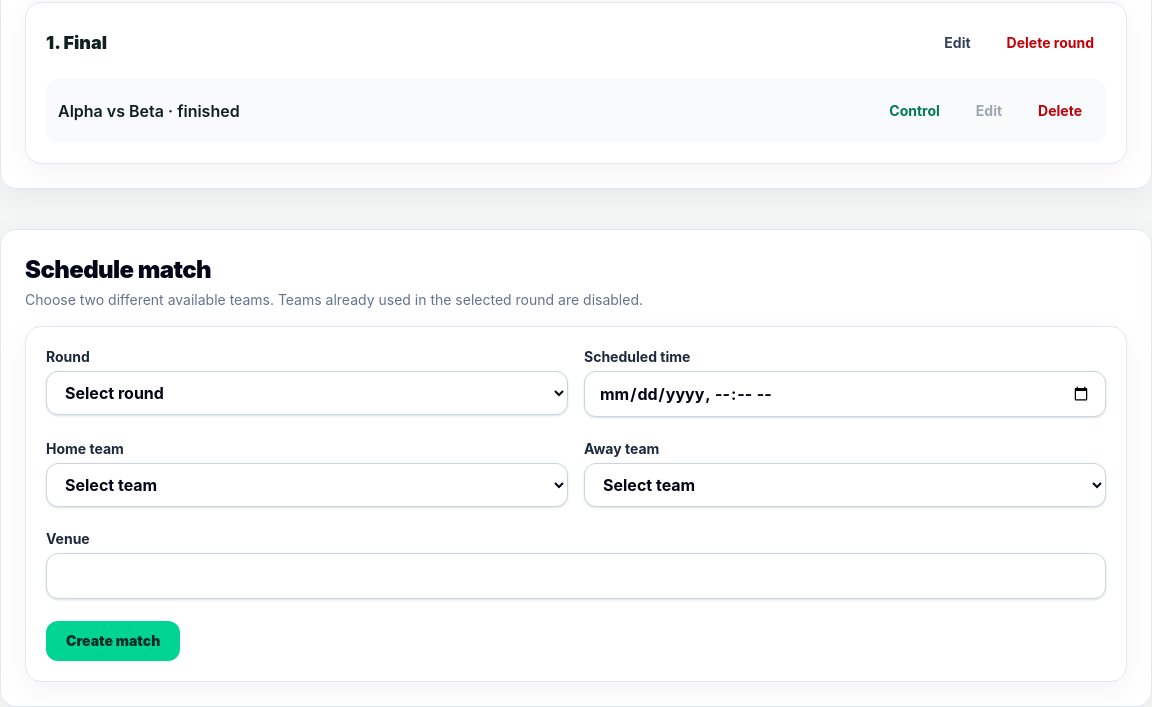
Test: EventWorkspace › shows team names and disables teams already used in the selected round
The width and height of the screenshot is (1152, 707).
(page scrolled)
Check: the text "Alpha vs Beta · finished" is shown, box [58,101,240,121]
Select "Final" in the dropdown labelled "Round" at (307, 393), box [46,371,568,415]
(page scrolled)
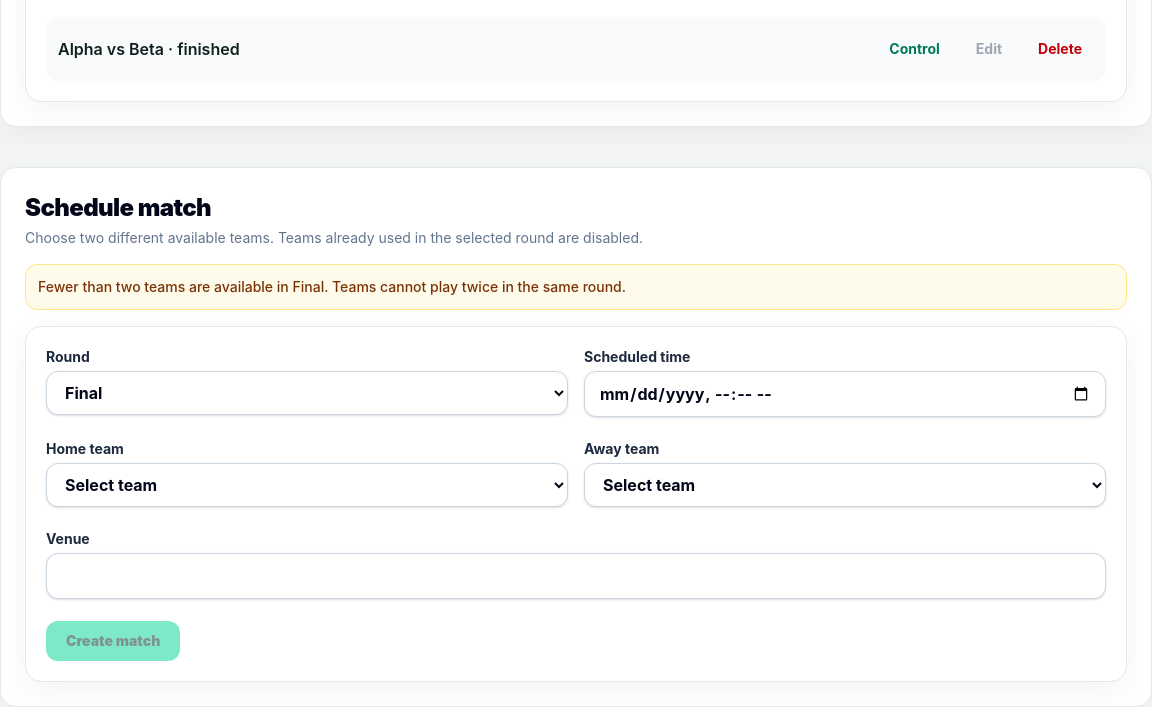
Check: the text "Teams cannot play twice in the same round" is shown, box [38,278,626,295]
Check: the button "Create match" is disabled, box [46,621,180,661]
